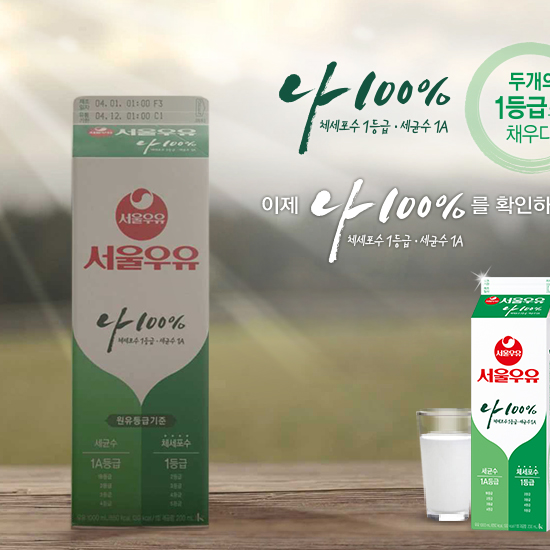milk: (73, 94, 205, 525), (468, 275, 546, 534)
